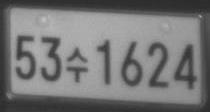1: (94, 38, 116, 85)
2: (147, 40, 170, 89)
3: (39, 37, 62, 81)
4: (173, 43, 199, 90)
5: (14, 35, 37, 80)
6: (120, 40, 143, 86)
수: (65, 46, 90, 84)
